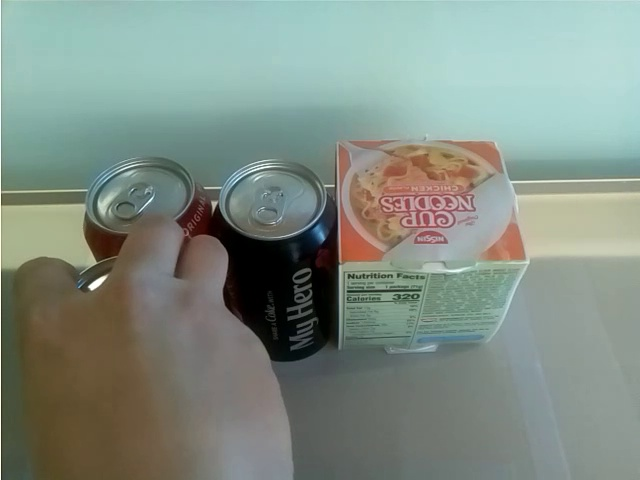cocacola: (215, 157, 330, 358), (78, 156, 212, 250)
hand: (8, 216, 291, 480)
noodles: (336, 142, 530, 353)
